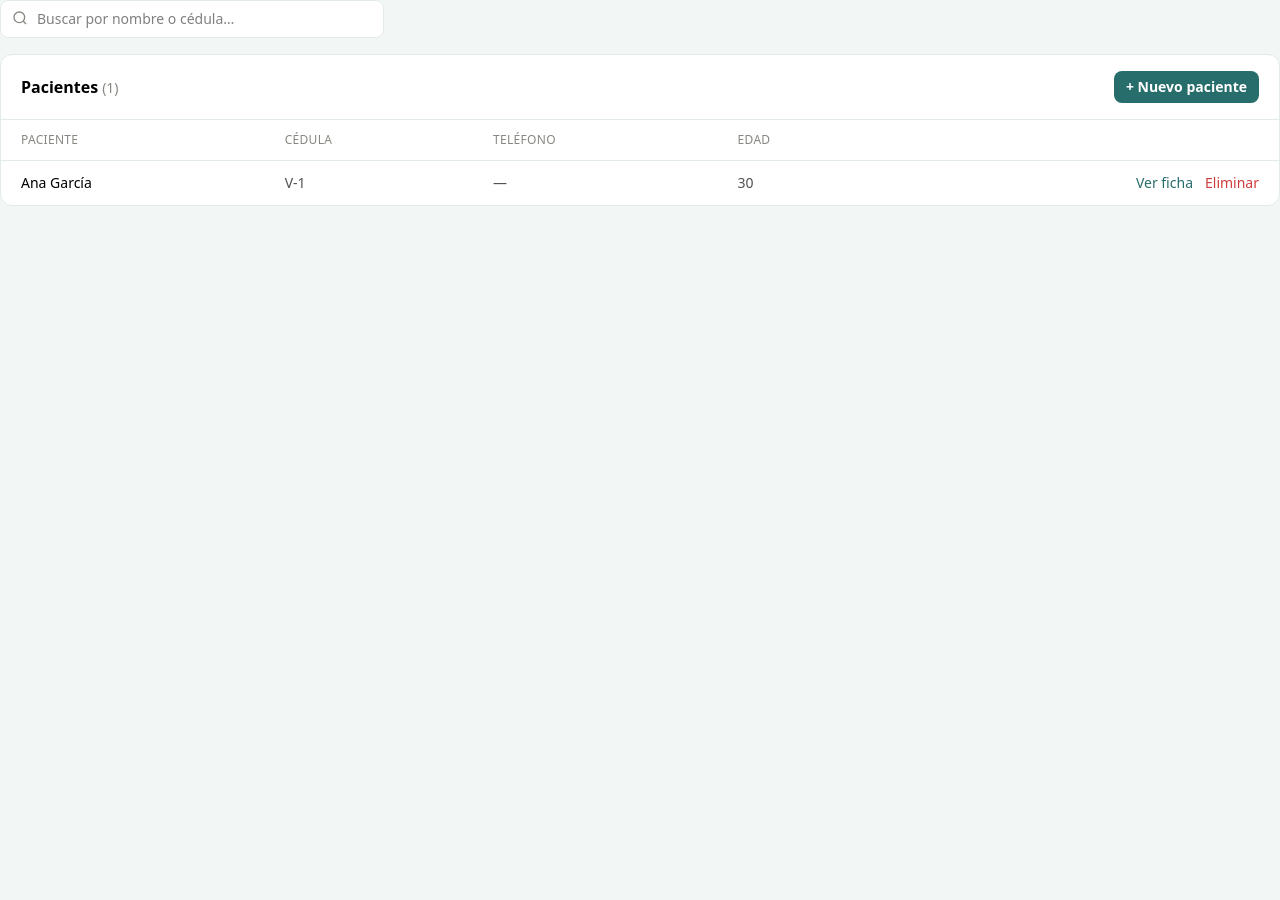
Test: PatientsPage — erasing a patient › accepts the typed name ignoring case and extra spaces
This screenshot has width=1280, height=900.
Click the button "Eliminar".
click(1232, 183)  # box [1205,173,1259,193]
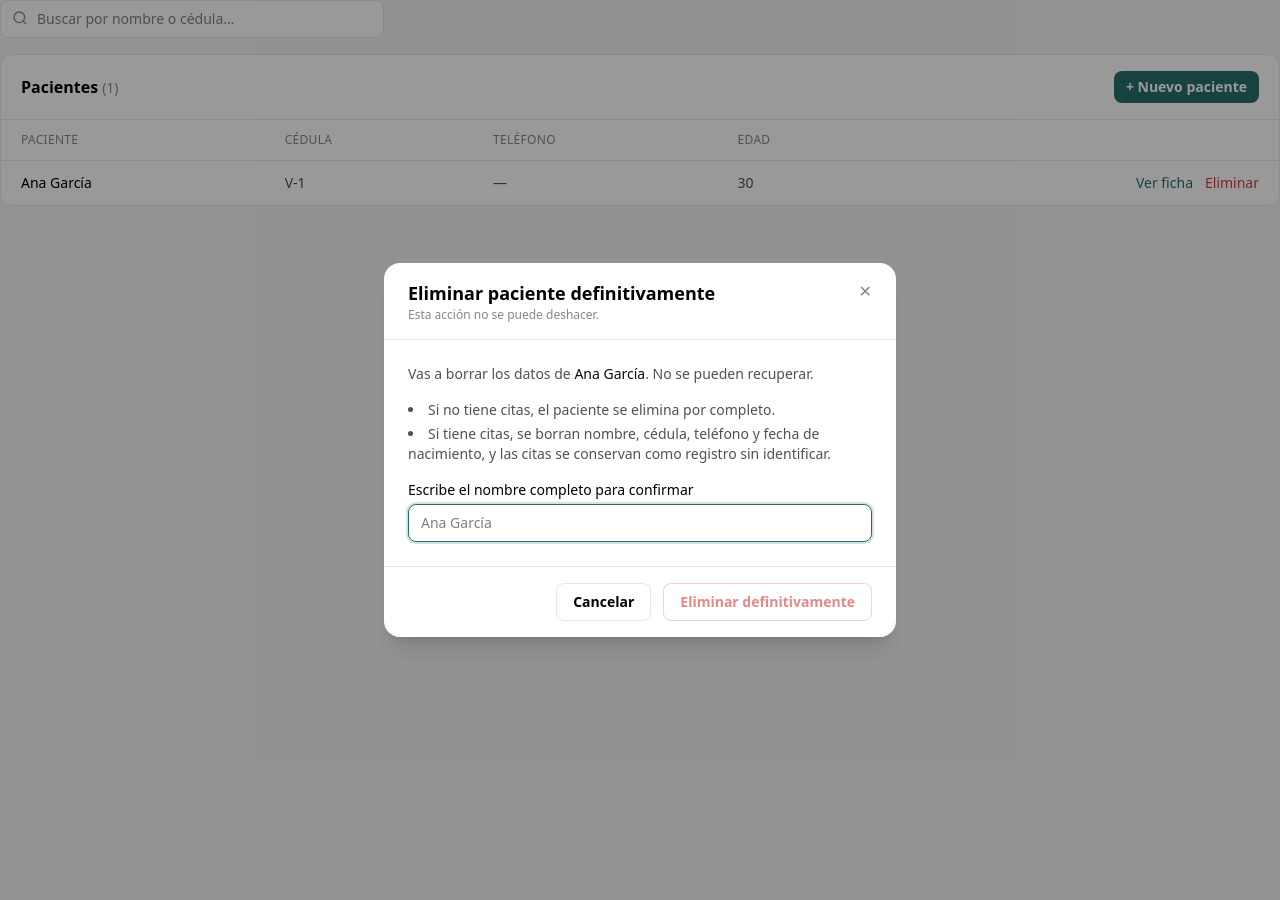
Type "  ana   garcía " into the field labelled "Escribe el nombre completo para confirmar".
click(640, 523); type("  ana   garcía ")  # box [408,504,872,542]
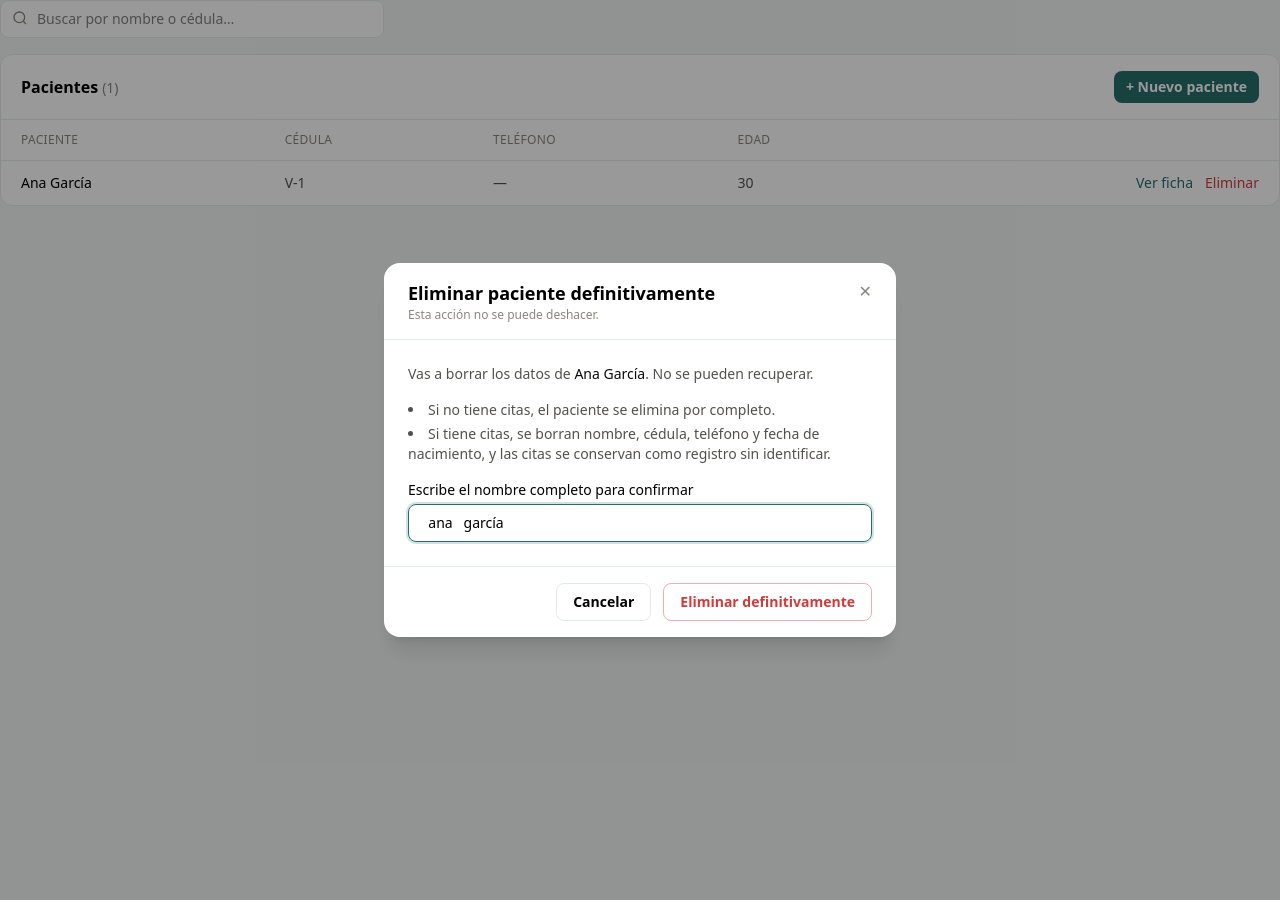
Now the button "Eliminar definitivamente" is enabled, box [663,583,872,621]
